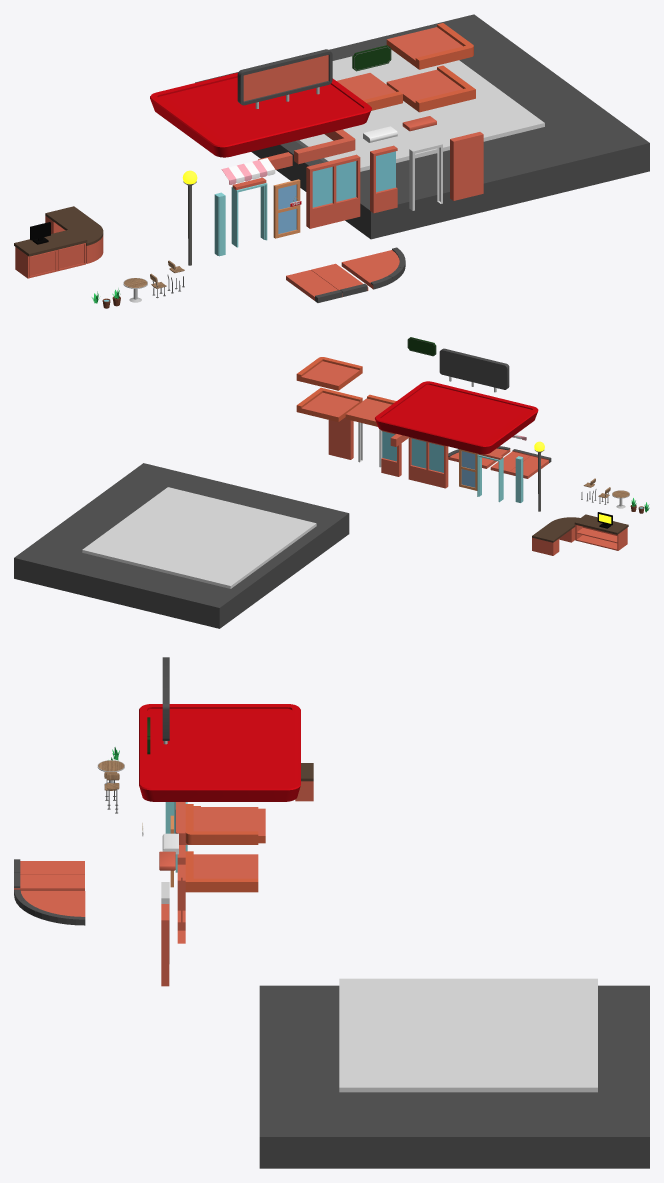
Rendered from shopModularParts.fbx.
3 views of the same model, one above another, from view 1: azimuth 30°, elevation 25°; view 2: azimuth 150°, elevation 25°; view 3: azimuth 270°, elevation 25° (orthographic). The views are drawn at different scales.
Visible parts, largest first — view 1: Plane.003, Roof, Cube.044, Plane.001, Sign, WallWindow, RoofCorner, RoofCorner.001, wall, Pavement, WallWindowShort, CornerPavement (+11 smaller); view 2: Plane.003, Cube.044, Roof, Plane.001, Sign, WallWindow, RoofCorner, RoofCorner.001, CounterCorner, wall, Counter, Pavement (+5 smaller); view 3: Plane.003, Cube.044, Roof, Plane.001, RoofCorner.001, RoofCorner, Pavement, CornerPavement, wall, WallWindowShort.
Boxes of the visible parts, x1,y1,x2,y2 form: Plane.003: [195, 14, 649, 228]; Roof: [150, 72, 371, 157]; Cube.044: [295, 49, 544, 171]; Plane.001: [251, 149, 649, 239]; Sign: [237, 49, 332, 108]; WallWindow: [306, 154, 360, 228]; RoofCorner: [386, 23, 473, 69]; RoofCorner.001: [386, 65, 475, 112]; wall: [450, 132, 483, 200]; Pavement: [286, 263, 368, 302]; WallWindowShort: [370, 145, 397, 213]; CornerPavement: [341, 247, 405, 289]; Plane.003: [14, 463, 349, 621]; Cube.044: [82, 487, 316, 588]; Roof: [375, 381, 538, 454]; Plane.001: [14, 527, 349, 628]; Sign: [439, 348, 509, 392]; WallWindow: [408, 437, 448, 488]; RoofCorner: [296, 357, 362, 390]; RoofCorner.001: [296, 387, 362, 422]; CounterCorner: [532, 517, 580, 555]; wall: [328, 417, 353, 459]; Counter: [575, 524, 627, 550]; Pavement: [490, 449, 551, 478]; Plane.003: [259, 985, 649, 1156]; Cube.044: [339, 978, 597, 1092]; Roof: [139, 704, 300, 801]; Plane.001: [259, 1157, 649, 1168]; RoofCorner.001: [185, 851, 258, 892]; RoofCorner: [185, 804, 258, 844]; Pavement: [14, 859, 84, 890]; CornerPavement: [14, 889, 85, 925]; wall: [161, 904, 169, 986]; WallWindowShort: [177, 864, 185, 943].
Bounding box in the file's own units: 2537 × 912 × 1968.
19 materials, 2 textured.
